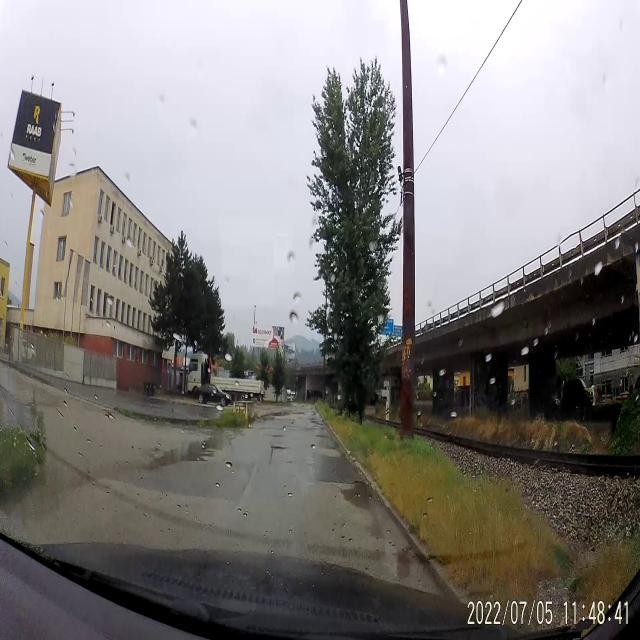Pothole: (350, 477, 368, 490), (269, 444, 290, 451), (314, 432, 330, 440), (265, 434, 285, 439)
